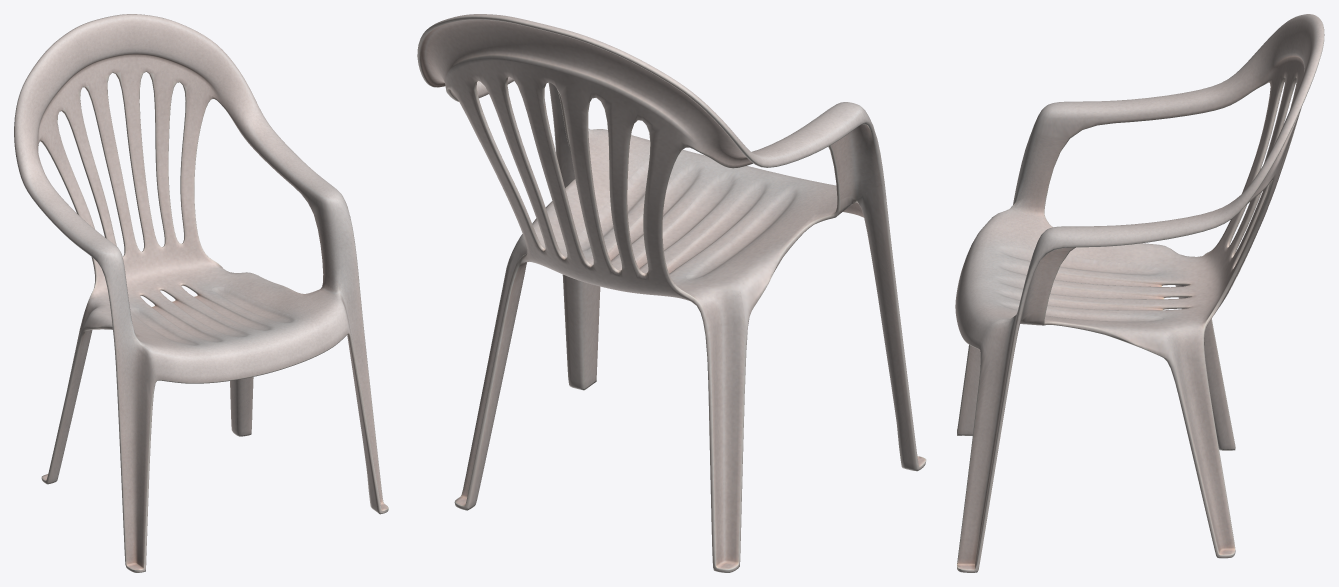
Rendered from chair.glb.
The picture shows the model from 3 angles, left to right: view 1: azimuth 30°, elevation 25°; view 2: azimuth 150°, elevation 25°; view 3: azimuth 270°, elevation 25°; orthographic projection. The views are drawn at different scales.
Visible parts, largest first — view 1: MonoblocChair; view 2: MonoblocChair; view 3: MonoblocChair.
Part boxes in pixels (x1=…): MonoblocChair: x1=14, y1=14, x2=388, y2=572; MonoblocChair: x1=417, y1=14, x2=926, y2=572; MonoblocChair: x1=955, y1=14, x2=1324, y2=572.
Bounding box in the file's own units: 0.6008 × 0.9103 × 0.6511.
1 material, 1 textured.
